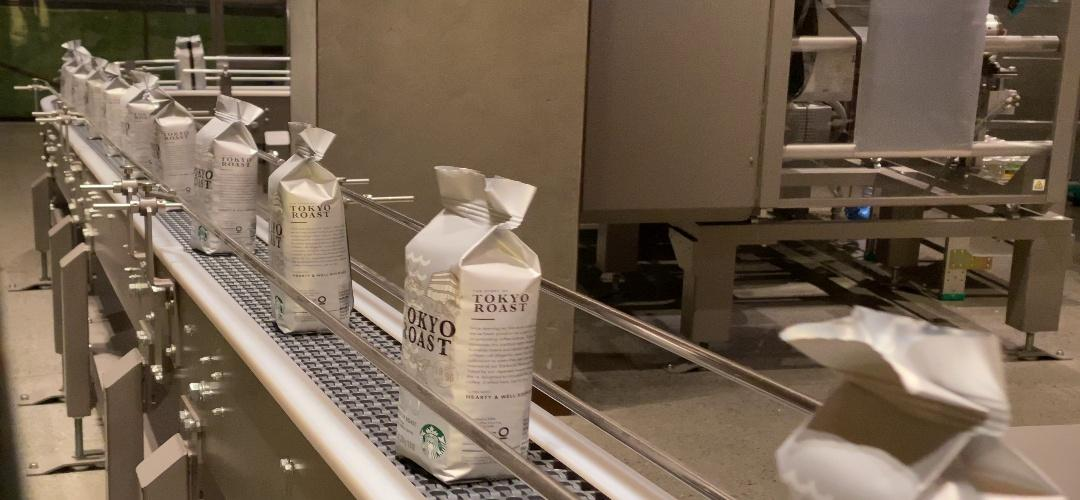conveyor: (404, 244, 534, 391), (265, 175, 352, 269), (194, 137, 259, 215)
